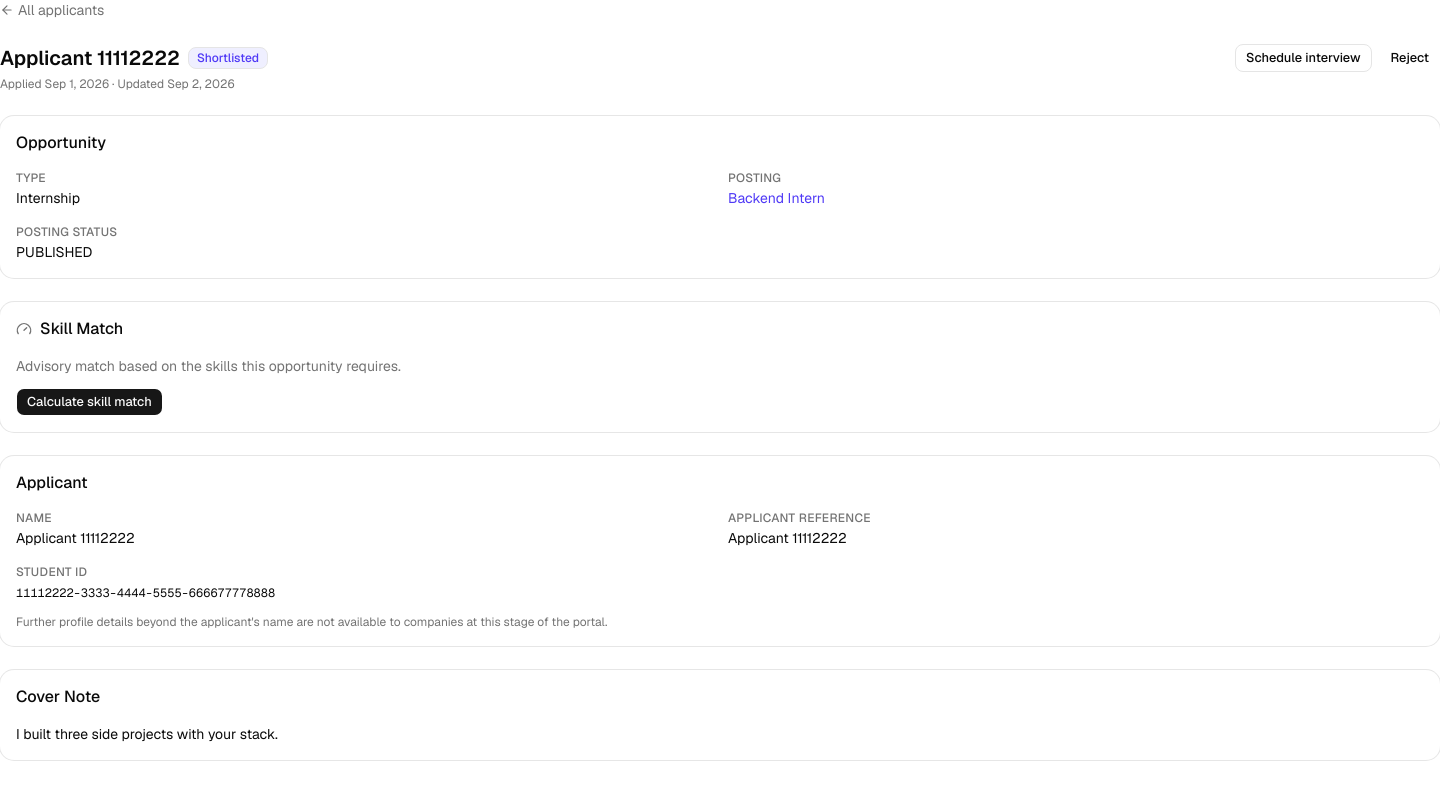
Test: ApplicationDetailView › handles a 409 invalid-transition from a stale tab
Expected: the heading "Applicant 11112222" is shown, [0,44,180,72]
Click the button "Reject" at (1410, 58), box [1380,44,1439,72]
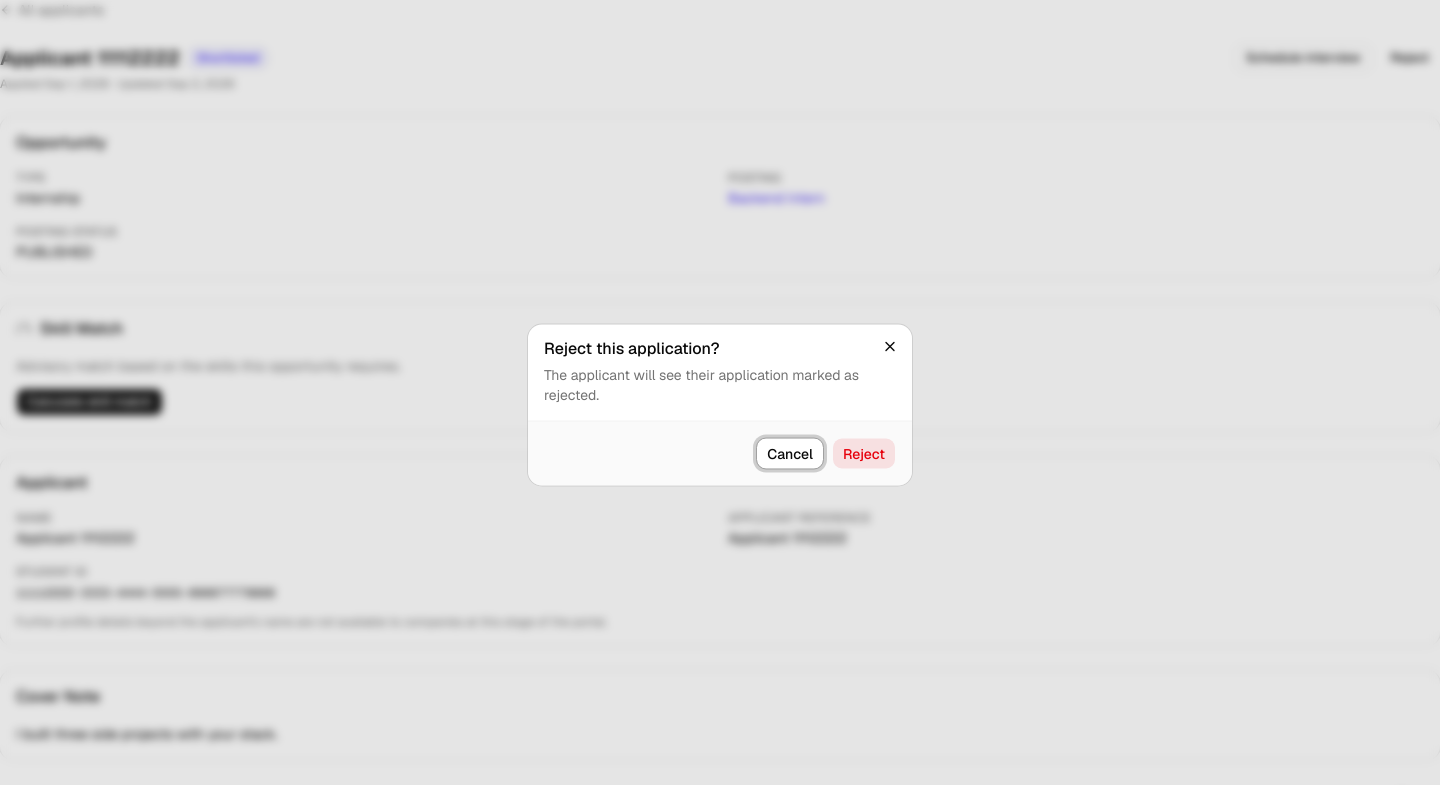
Click the button "Reject" at (864, 454), box [832,438,896,470]
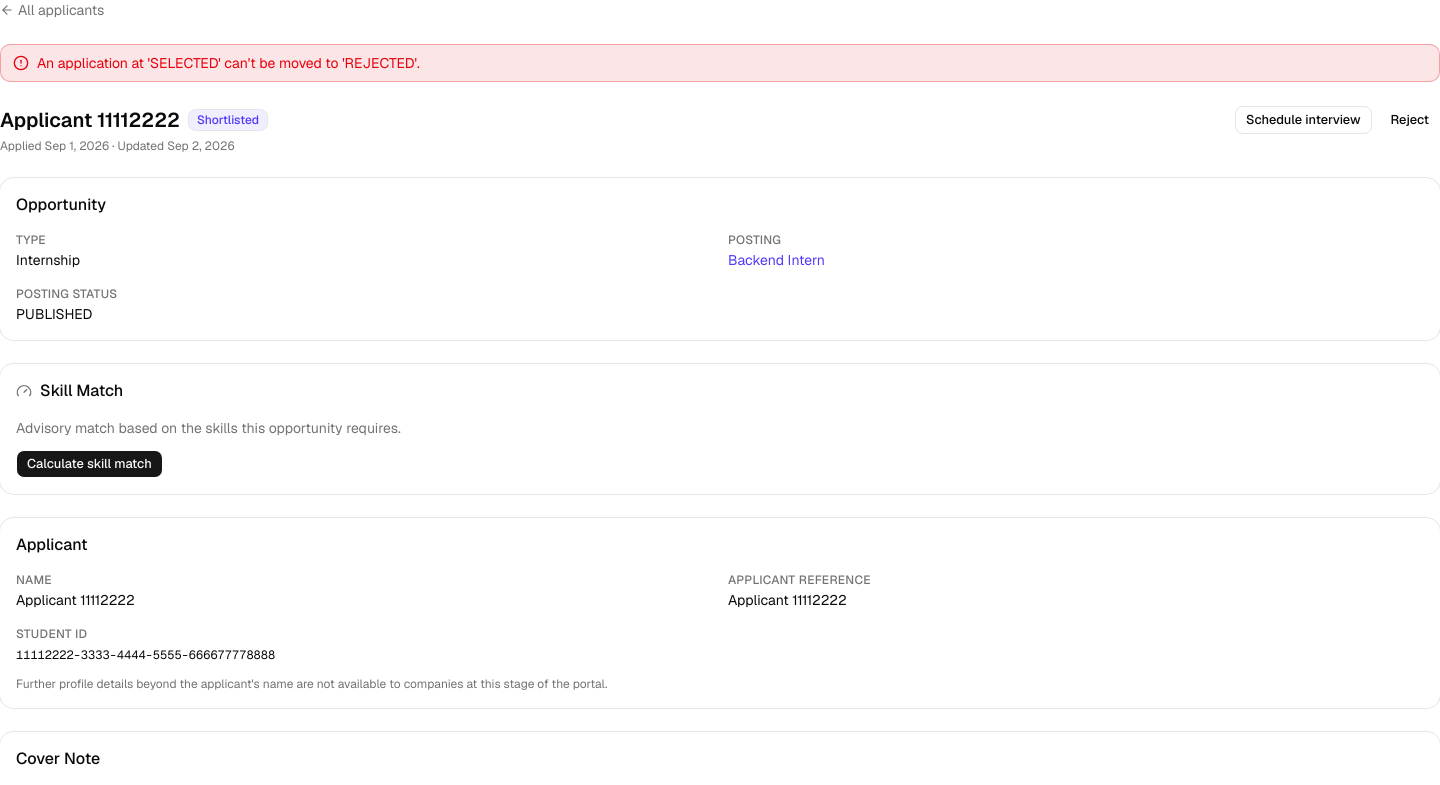
Result: the text "An application at 'SELECTED' can't be moved to 'REJECTED'." is shown at [37,53,420,73]
